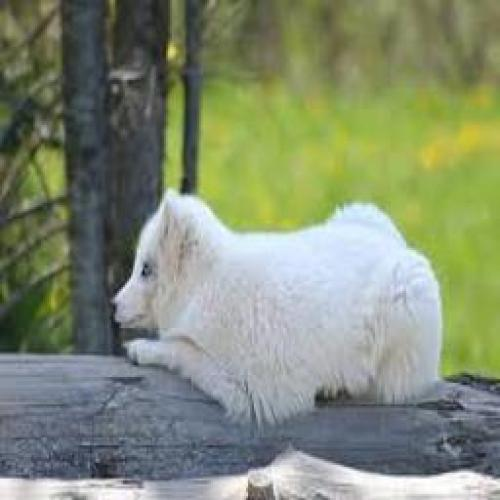arctic_fox-endangered: (110, 191, 449, 412)
